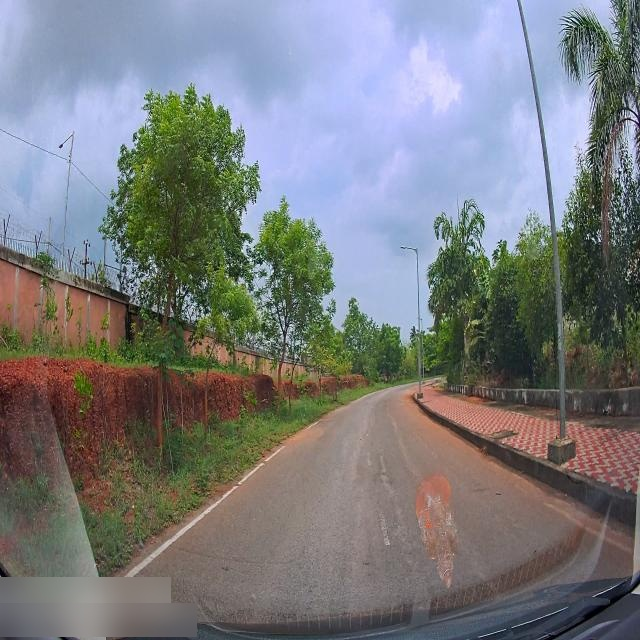pothole: (379, 448, 414, 562)
